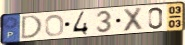0: (148, 6, 164, 30)
3: (96, 10, 114, 34)
4: (71, 11, 91, 37)
D: (20, 14, 44, 41)
O: (44, 14, 65, 38)
X: (122, 6, 144, 33)
